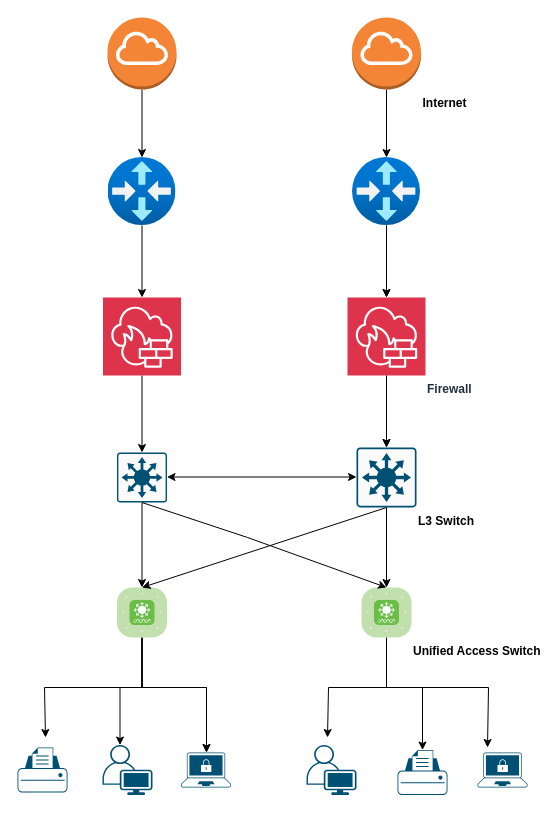
This 558x833 diagram has some shape labels left out. The shapes that lost their labels are listed below. From the top down, each one's box as (x1, y1, x2, y2) in pixels, then its label:
(352, 157, 420, 225): Router
(397, 750, 447, 794): End Point Devices
